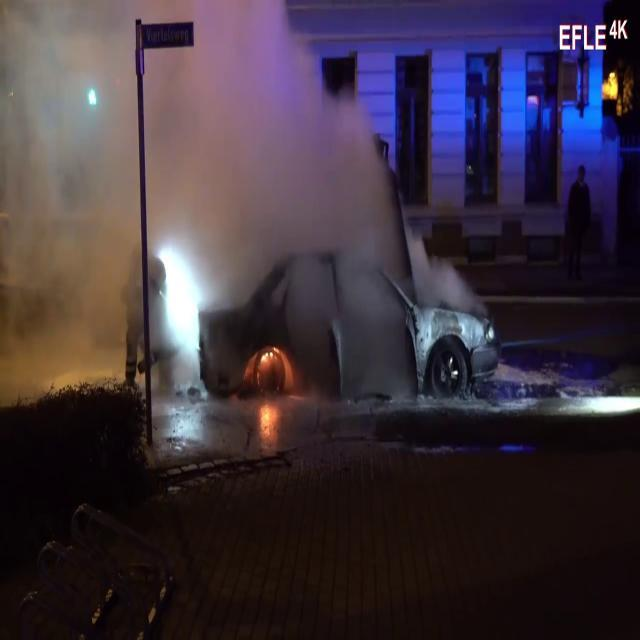Smoke: (1, 1, 376, 379), (0, 1, 143, 396)
